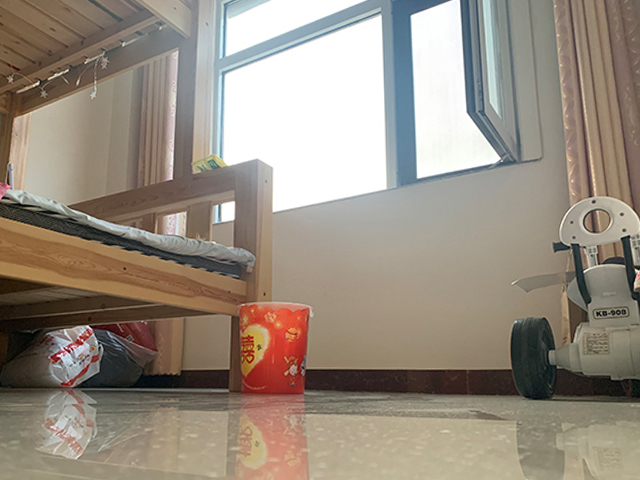bed: (1, 1, 273, 393)
curtain: (550, 1, 637, 294), (134, 49, 184, 376)
trashcan: (239, 302, 312, 396)
